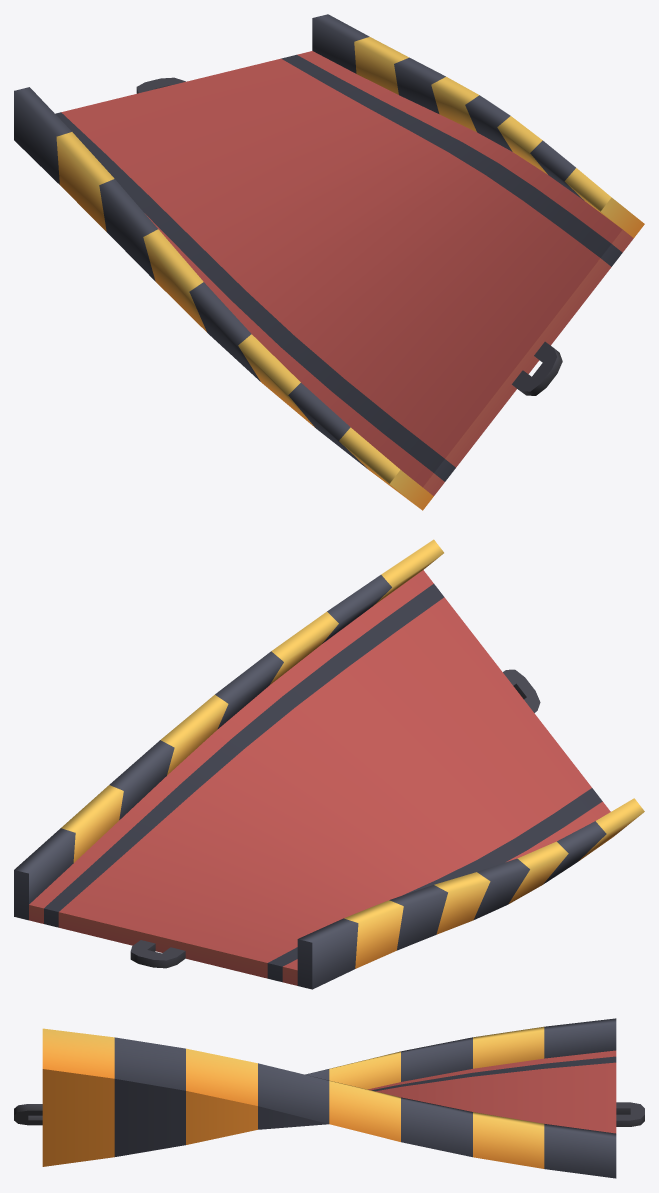
The model's file is track-road-wide-straight-skew-right.fbx.
The picture shows the model from 3 angles, top to bottom: view 1: azimuth 30°, elevation 25°; view 2: azimuth 150°, elevation 25°; view 3: azimuth 270°, elevation 25°; orthographic projection. The views are drawn at different scales.
Visible parts, largest first — view 1: track-road-wide-straight-skew-right; view 2: track-road-wide-straight-skew-right; view 3: track-road-wide-straight-skew-right.
Boxes of the visible parts, box(x1,y1,x2,y2) form: track-road-wide-straight-skew-right: box(14, 14, 644, 510); track-road-wide-straight-skew-right: box(14, 539, 644, 989); track-road-wide-straight-skew-right: box(14, 1018, 644, 1178).
Bounding box in the file's own units: 204 × 163 × 440.
